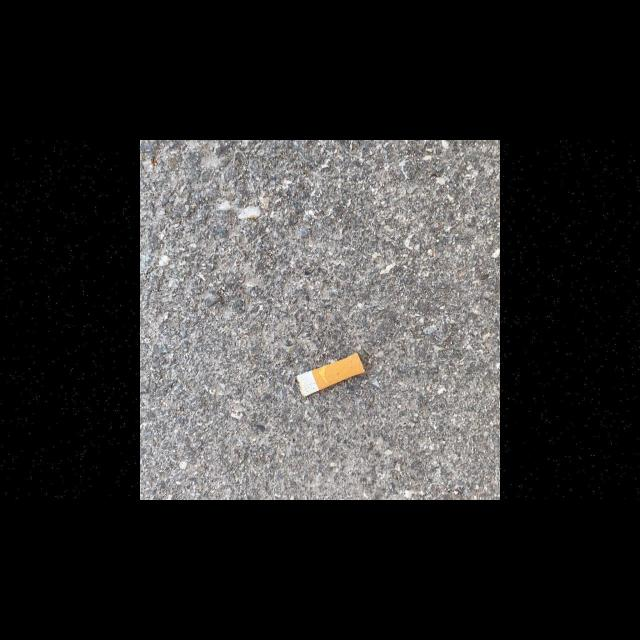cigarette: (296, 352, 365, 397)
